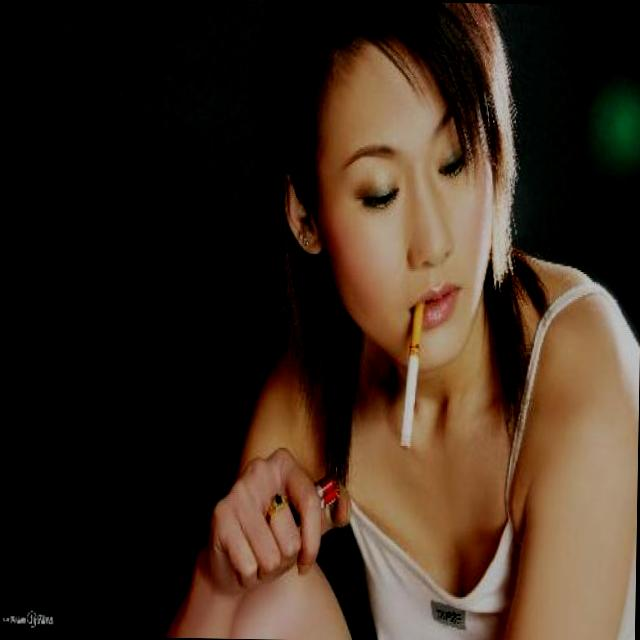cigarette: (392, 289, 437, 452)
